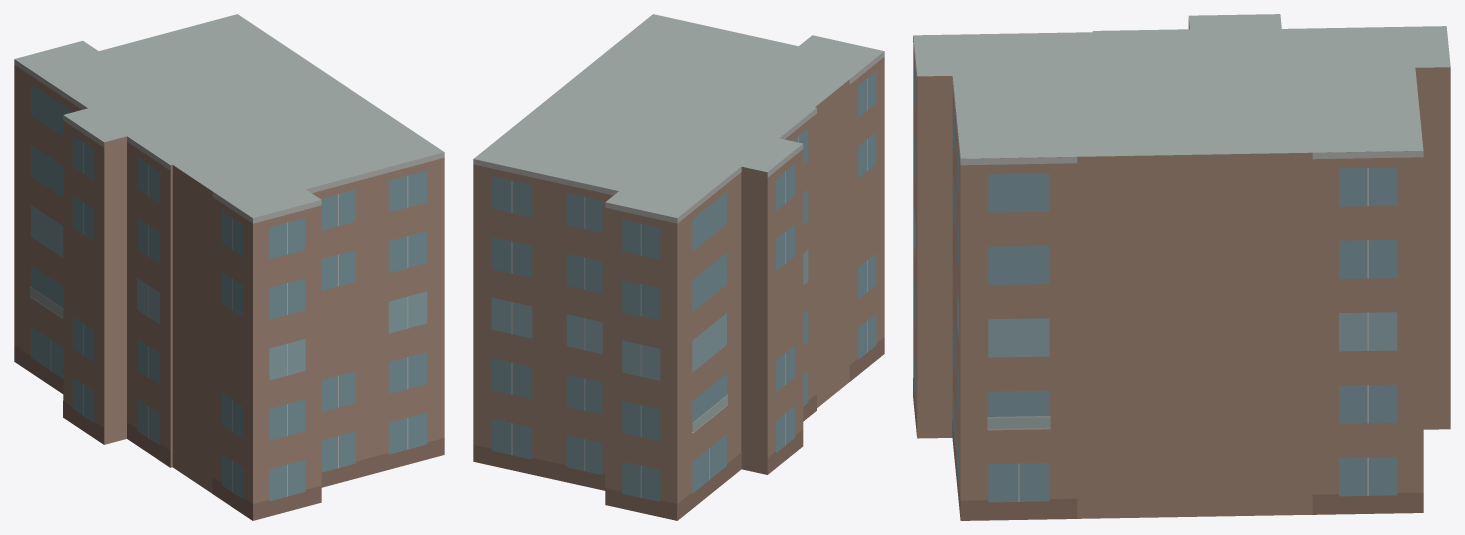
File: survey-upis-32932441.glb
3 renders of one model, left to right at view 1: azimuth 30°, elevation 25°; view 2: azimuth 150°, elevation 25°; view 3: azimuth 270°, elevation 25°, orthographic. The views are drawn at different scales.
Visible parts, largest first — view 1: survey-upis-32932441.tmp; view 2: survey-upis-32932441.tmp; view 3: survey-upis-32932441.tmp.
Part boxes in pixels (left/top/right/bottom): survey-upis-32932441.tmp: left=14, top=14, right=444, bottom=520; survey-upis-32932441.tmp: left=473, top=14, right=884, bottom=520; survey-upis-32932441.tmp: left=913, top=14, right=1450, bottom=520.
Size of the model in its own units: 11.67 by 13.6 by 18.31.
